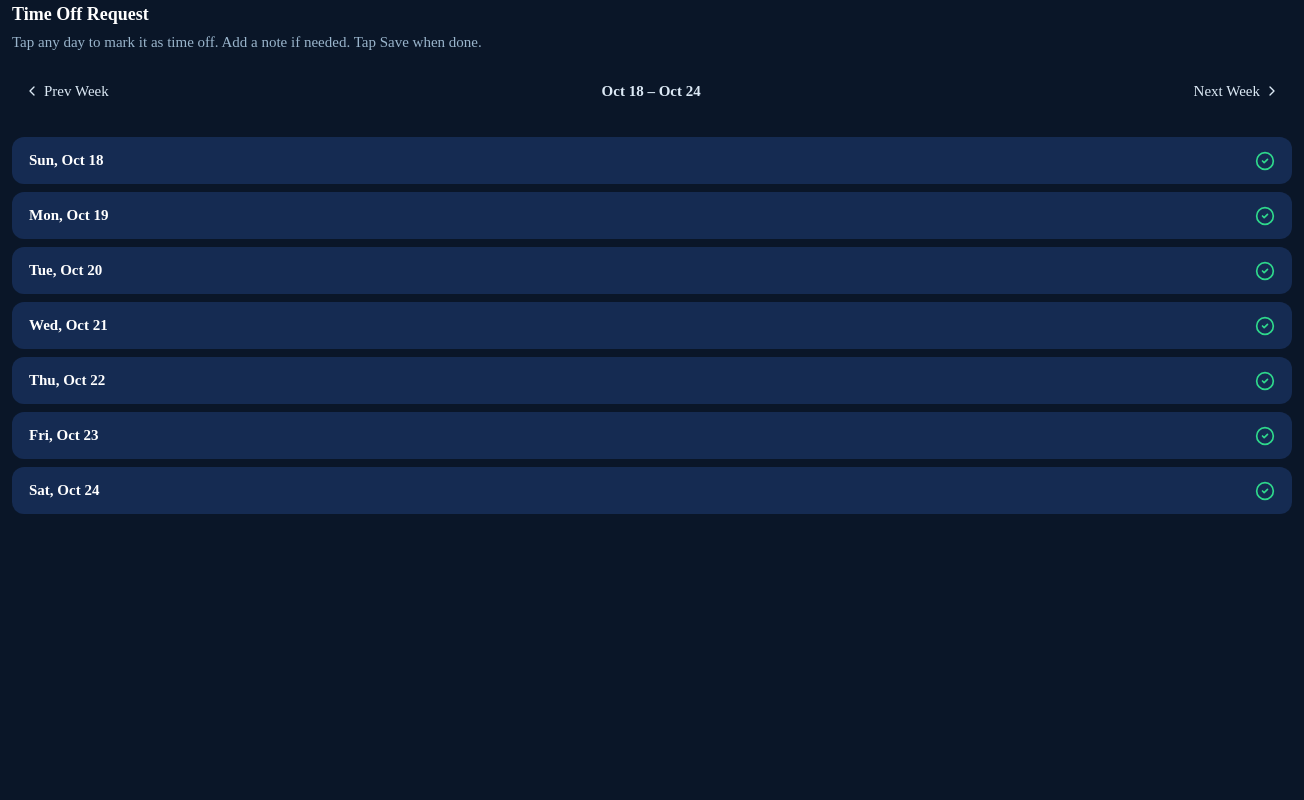
Scenario: crew time off — a failure says whether the connection is the cause › keeps the generic retry message when the device is online
Click the button "Sun, Oct 18" at (66, 160), box left=13, top=138, right=1291, bottom=183
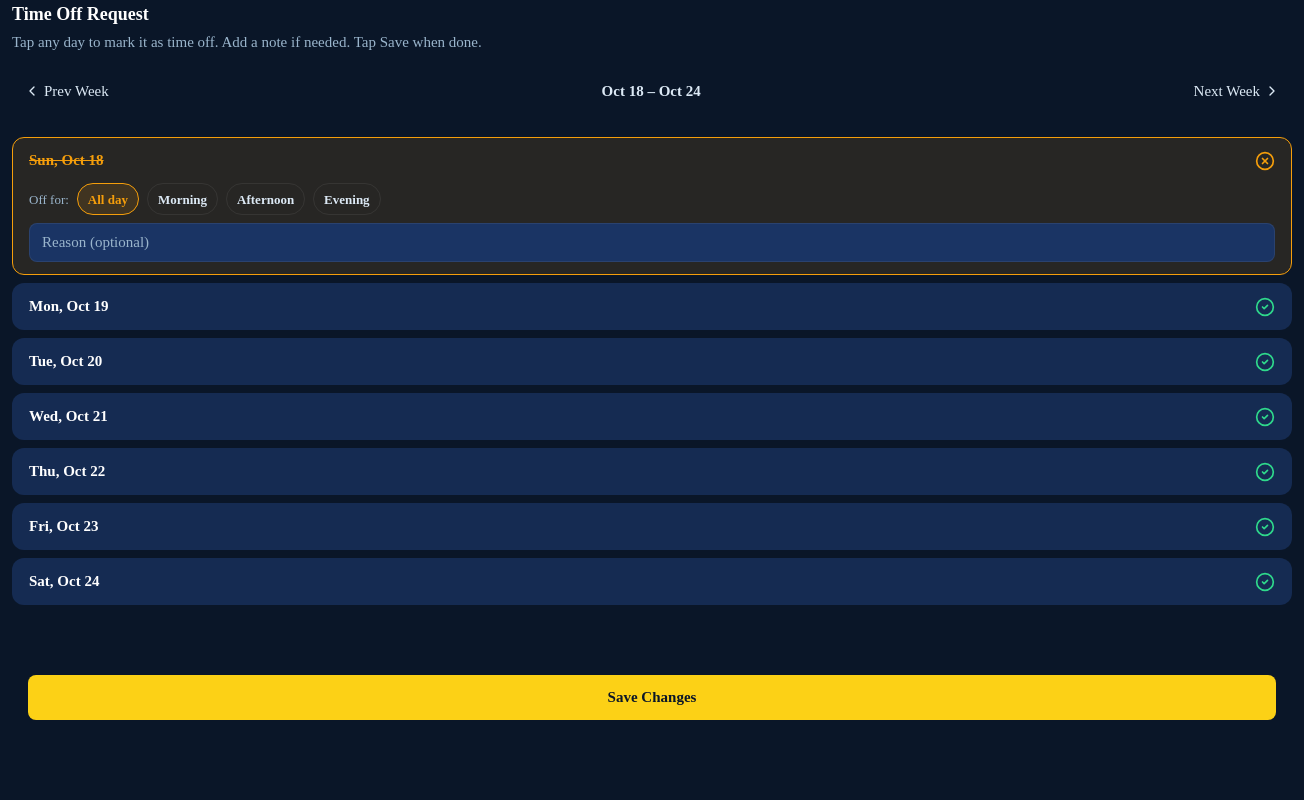
Click the button "Save Changes" at (652, 698), box left=28, top=675, right=1276, bottom=720
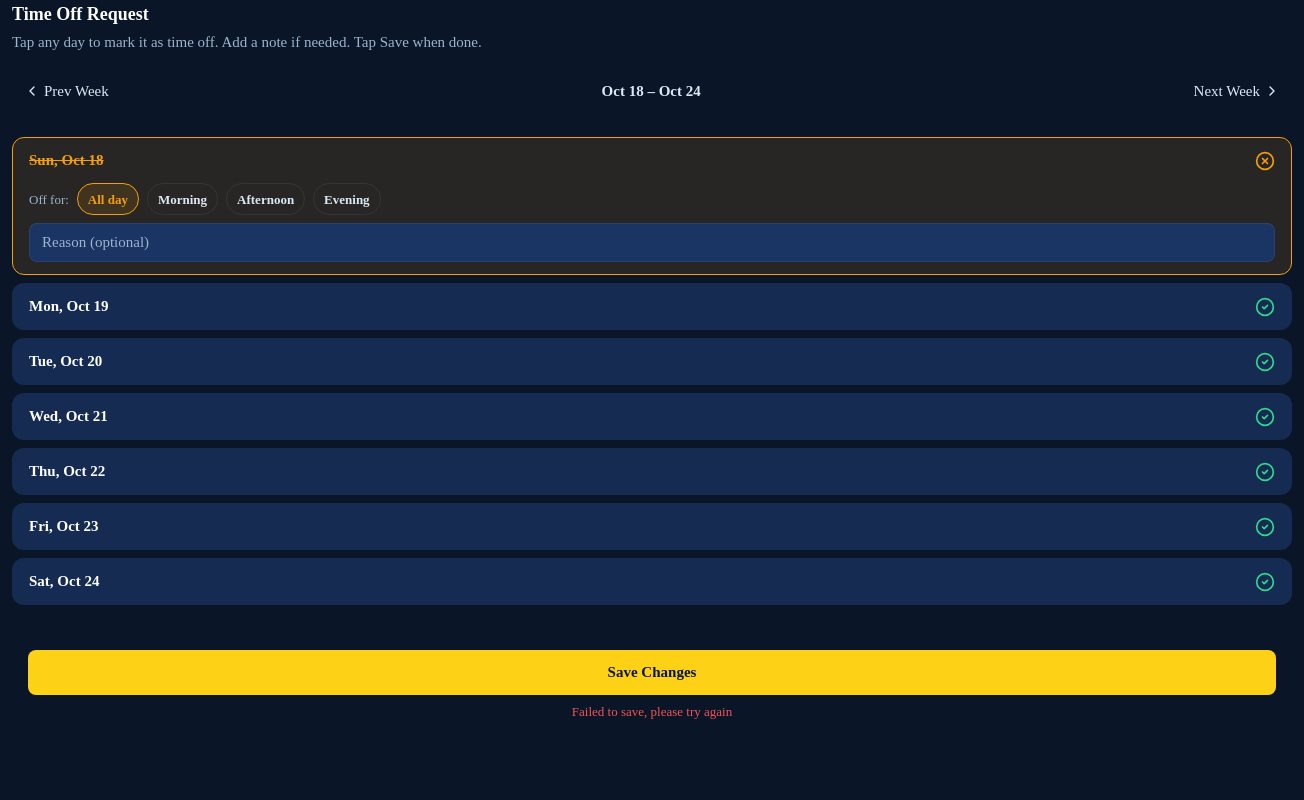
Now the text "Failed to save, please try again" is shown, box left=572, top=704, right=732, bottom=719
